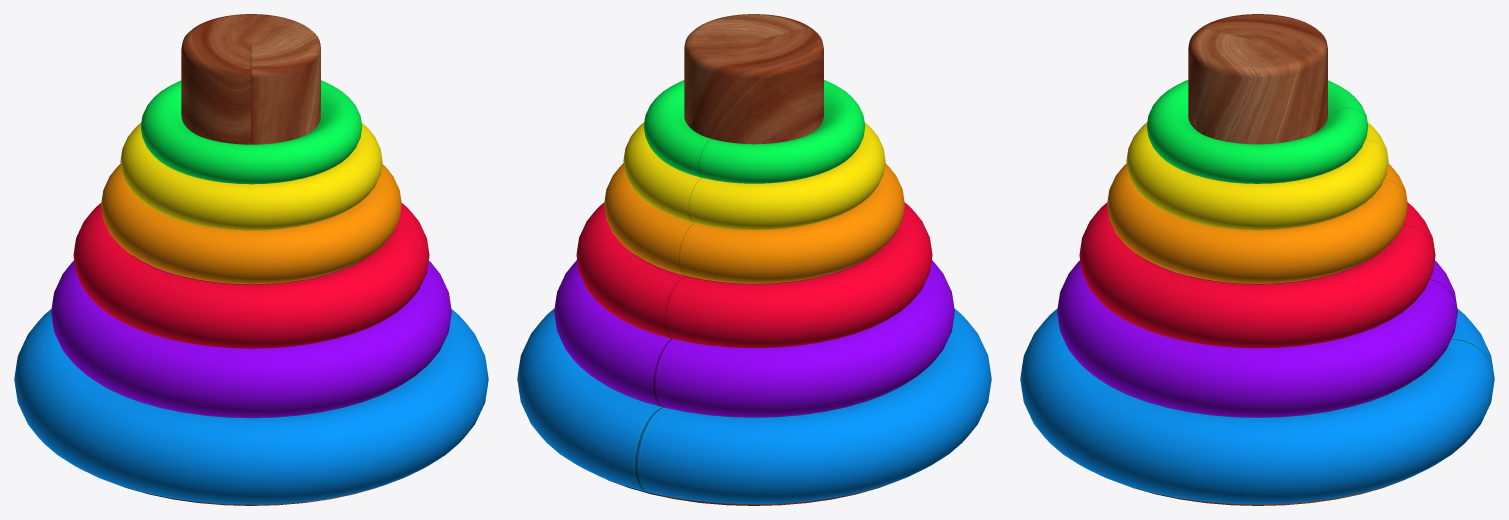
Rendered from ring.glb.
The picture shows the model from 3 angles, left to right: view 1: azimuth 30°, elevation 25°; view 2: azimuth 150°, elevation 25°; view 3: azimuth 270°, elevation 25°; orthographic projection.
Parts seen in each view (by area): view 1: Cylinder002; view 2: Cylinder002; view 3: Cylinder002.
Boxes of the visible parts, x1=… form: Cylinder002: x1=14, y1=14, x2=488, y2=505; Cylinder002: x1=517, y1=14, x2=991, y2=505; Cylinder002: x1=1020, y1=14, x2=1494, y2=505.
Bounding box in the file's own units: 0.2065 × 0.1816 × 0.2065.
Materials: 1 (1 with a texture image).
